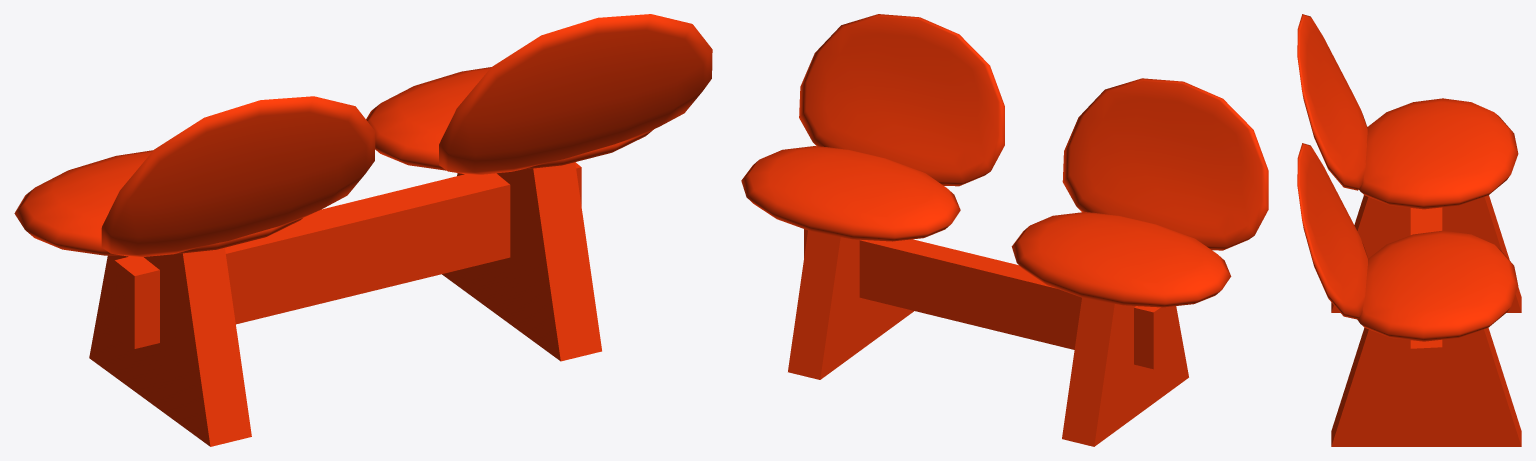
The model's file is bench3.FBX.
The picture shows the model from 3 angles, left to right: view 1: azimuth 30°, elevation 25°; view 2: azimuth 150°, elevation 25°; view 3: azimuth 270°, elevation 25°; orthographic projection. The views are drawn at different scales.
Parts seen in each view (by area): view 1: bench002; view 2: bench002; view 3: bench002.
Part boxes in pixels (box(x1,y1,x2,y2)): bench002: box(14, 14, 712, 446); bench002: box(741, 14, 1268, 446); bench002: box(1297, 14, 1521, 446).
Size of the model in its own units: 0.5916 by 0.3279 by 0.239.
